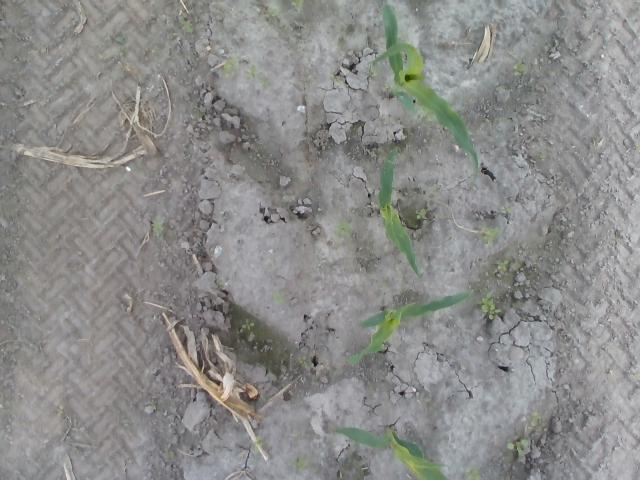Maize: (370, 2, 480, 196), (346, 289, 471, 365), (328, 424, 452, 480), (378, 147, 424, 279)
Weeds: (480, 289, 500, 318), (246, 64, 268, 86), (482, 225, 502, 247), (334, 220, 354, 240), (288, 454, 310, 472), (101, 46, 127, 60), (222, 57, 239, 77), (507, 440, 529, 454), (529, 410, 545, 428), (151, 216, 165, 236), (512, 60, 529, 76), (177, 19, 193, 35), (251, 436, 266, 452), (271, 291, 285, 308), (329, 72, 346, 86), (463, 468, 482, 480), (263, 6, 279, 20), (162, 450, 178, 463), (500, 202, 514, 216), (495, 260, 509, 274), (242, 318, 256, 332), (428, 185, 444, 197), (415, 208, 429, 221), (609, 237, 625, 248), (144, 398, 156, 412), (296, 355, 308, 369), (290, 0, 304, 11), (112, 35, 126, 44), (369, 64, 378, 78), (120, 418, 130, 430), (56, 403, 64, 416), (215, 280, 224, 290), (290, 430, 300, 438), (539, 151, 546, 161), (267, 263, 274, 272), (635, 142, 640, 153)
